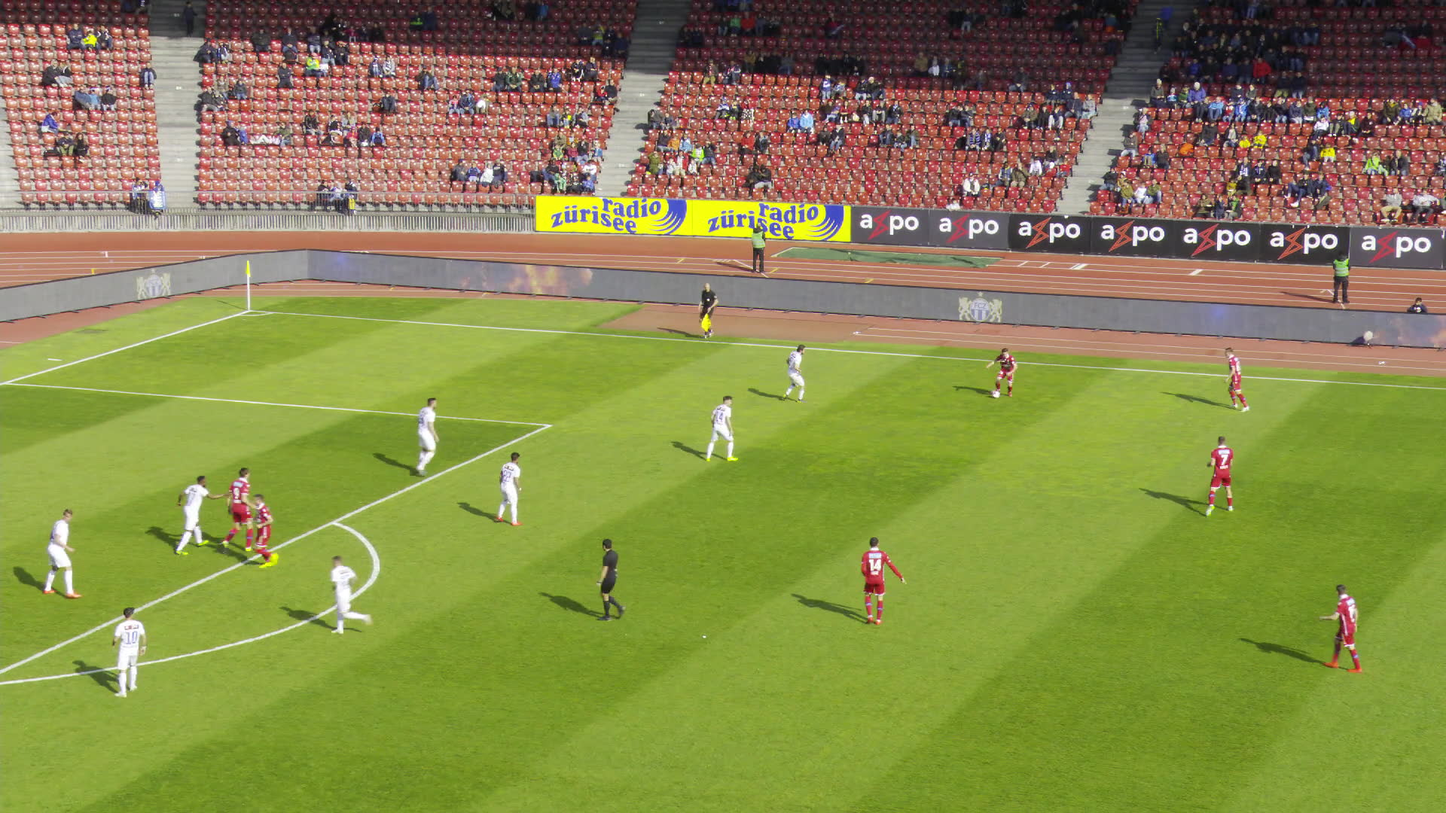ball: (991, 391, 1000, 397)
player: (175, 473, 231, 554), (1319, 583, 1365, 672), (861, 537, 906, 626), (41, 509, 81, 598), (328, 553, 372, 632), (111, 606, 148, 697), (224, 467, 261, 552), (1203, 436, 1235, 517), (252, 492, 285, 569), (706, 394, 740, 461), (415, 396, 442, 477), (498, 451, 523, 525), (1223, 347, 1251, 413), (779, 343, 807, 402), (986, 345, 1017, 397)
referee: (593, 537, 628, 622), (697, 282, 719, 339)
